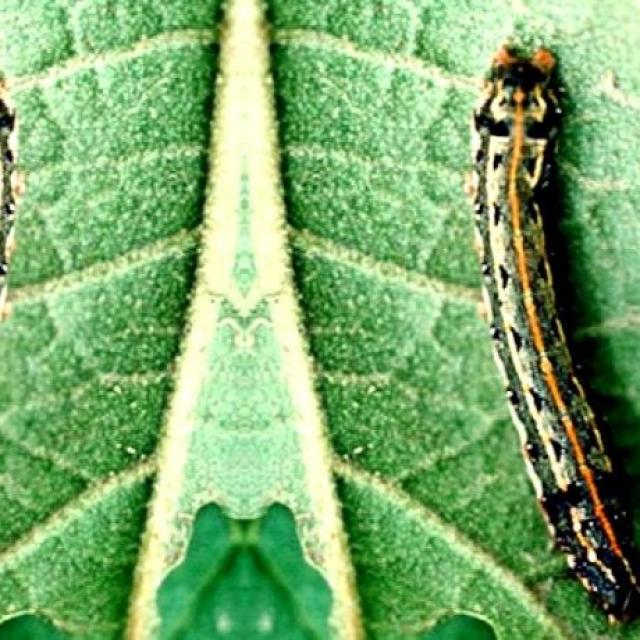Armyworm: (462, 20, 640, 640)
